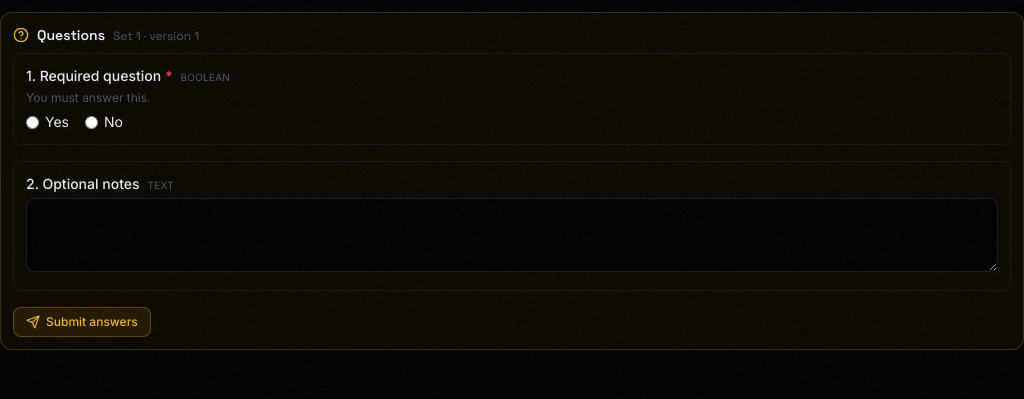
it: MissionQuestionCard — accessibility › submission error displays with role=alert
What coordinates should you click on to do the following:
click the radio button labelled "Yes"
I would click on:
 (32, 122)
Its box is 26,116 -> 39,128.
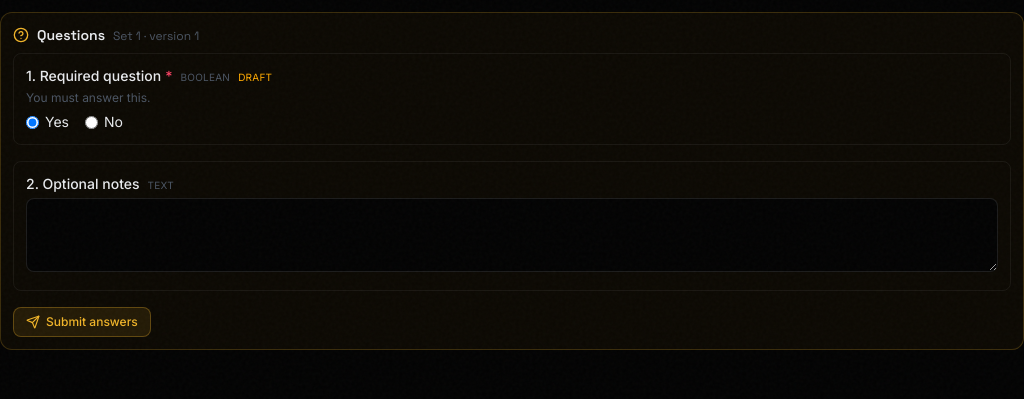
What coordinates should you click on to do the following:
click the button "Submit answers"
I would click on:
 (82, 322)
Its box is 13,307 -> 151,337.
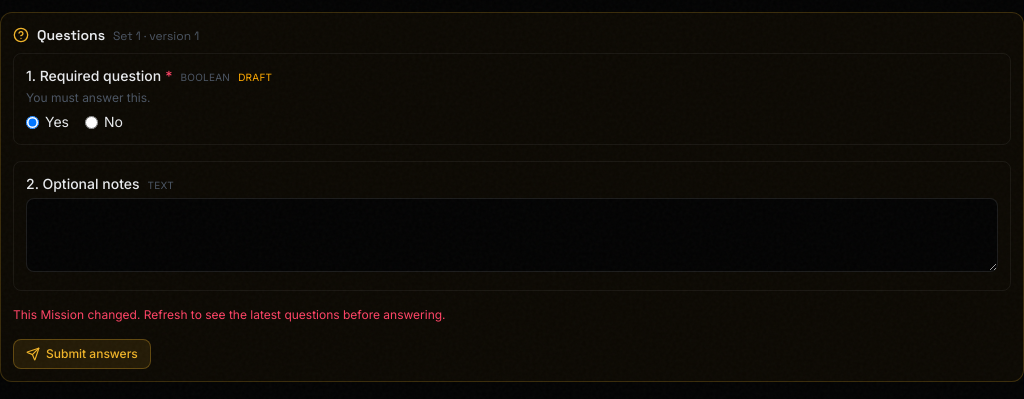
Result: the text "This Mission changed. Refresh to see the latest questions before answering." is shown at 13,307 -> 446,322
